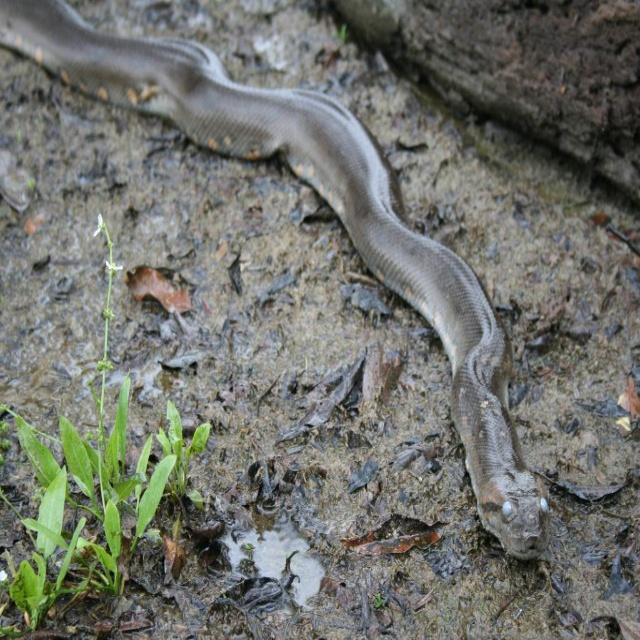Snake: (0, 0, 549, 563)
